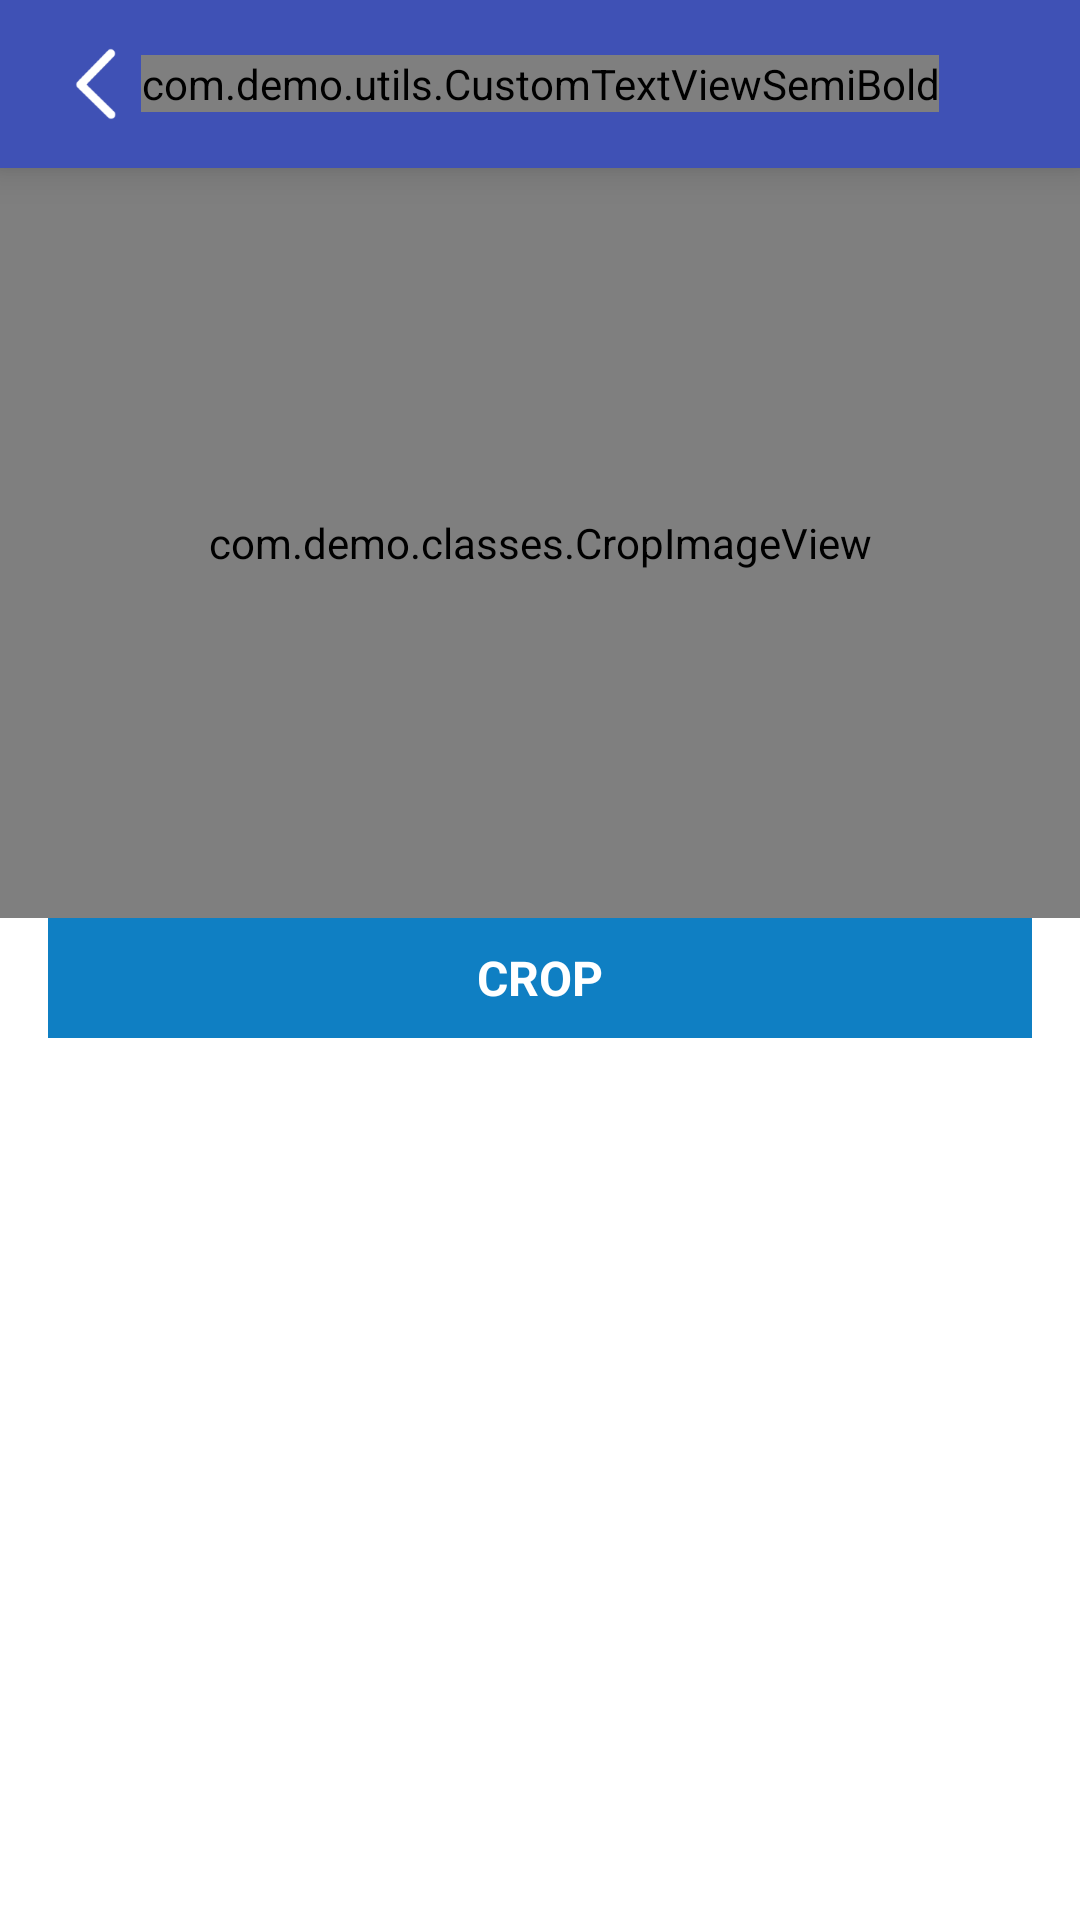

Locate icon controls on the screen. Image size 1080x1920, boxes as (x1, y1, x2, y2).
back: (76, 49, 116, 119)
